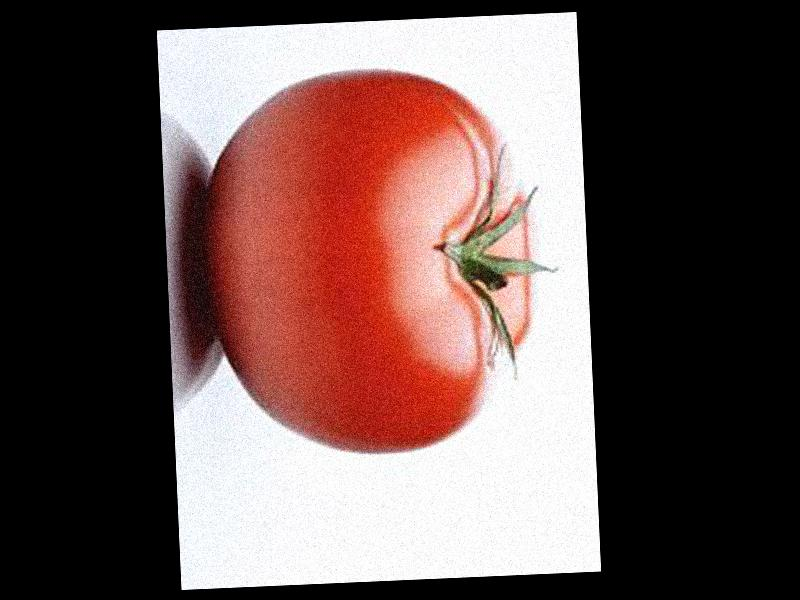Tomato: (201, 61, 542, 458)
